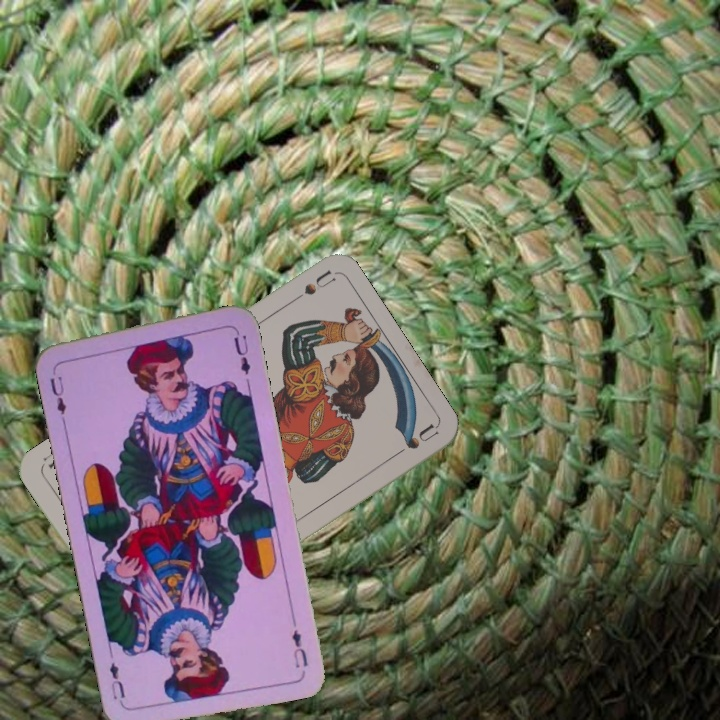EU: (46, 372, 69, 418), (288, 625, 310, 671)
SU: (282, 266, 337, 309)
